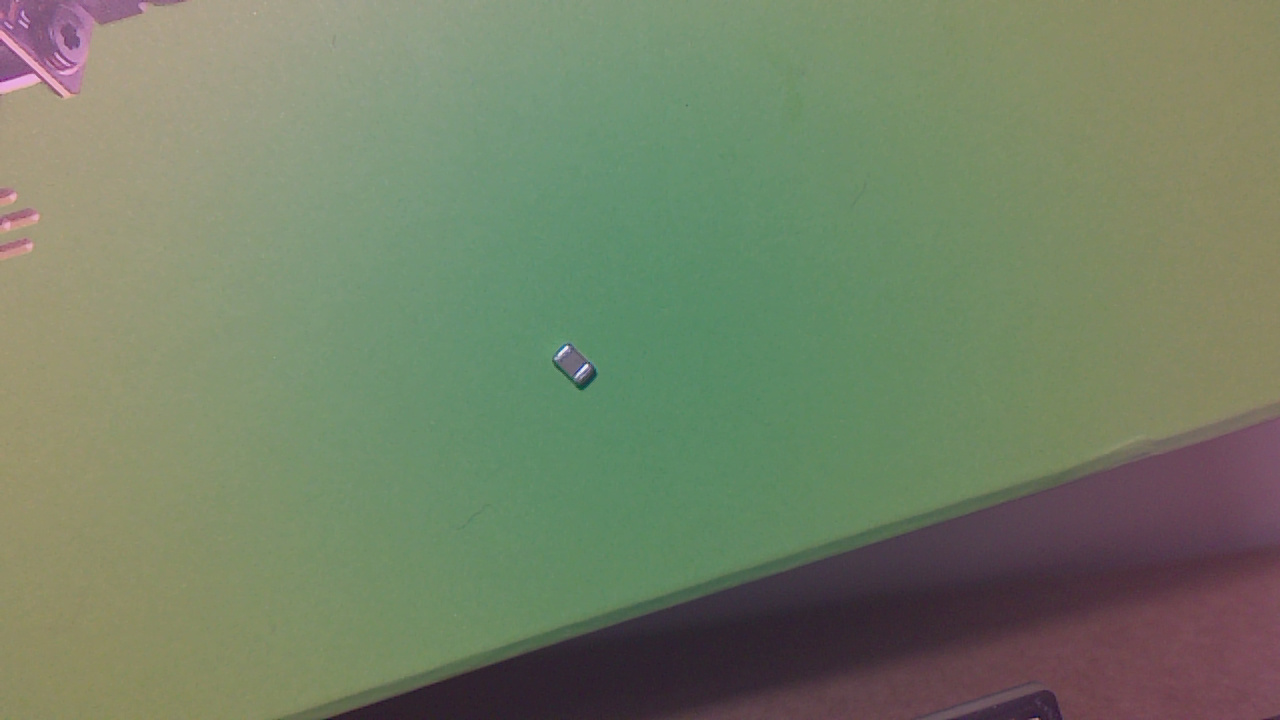Condensator: (557, 344, 603, 399)
